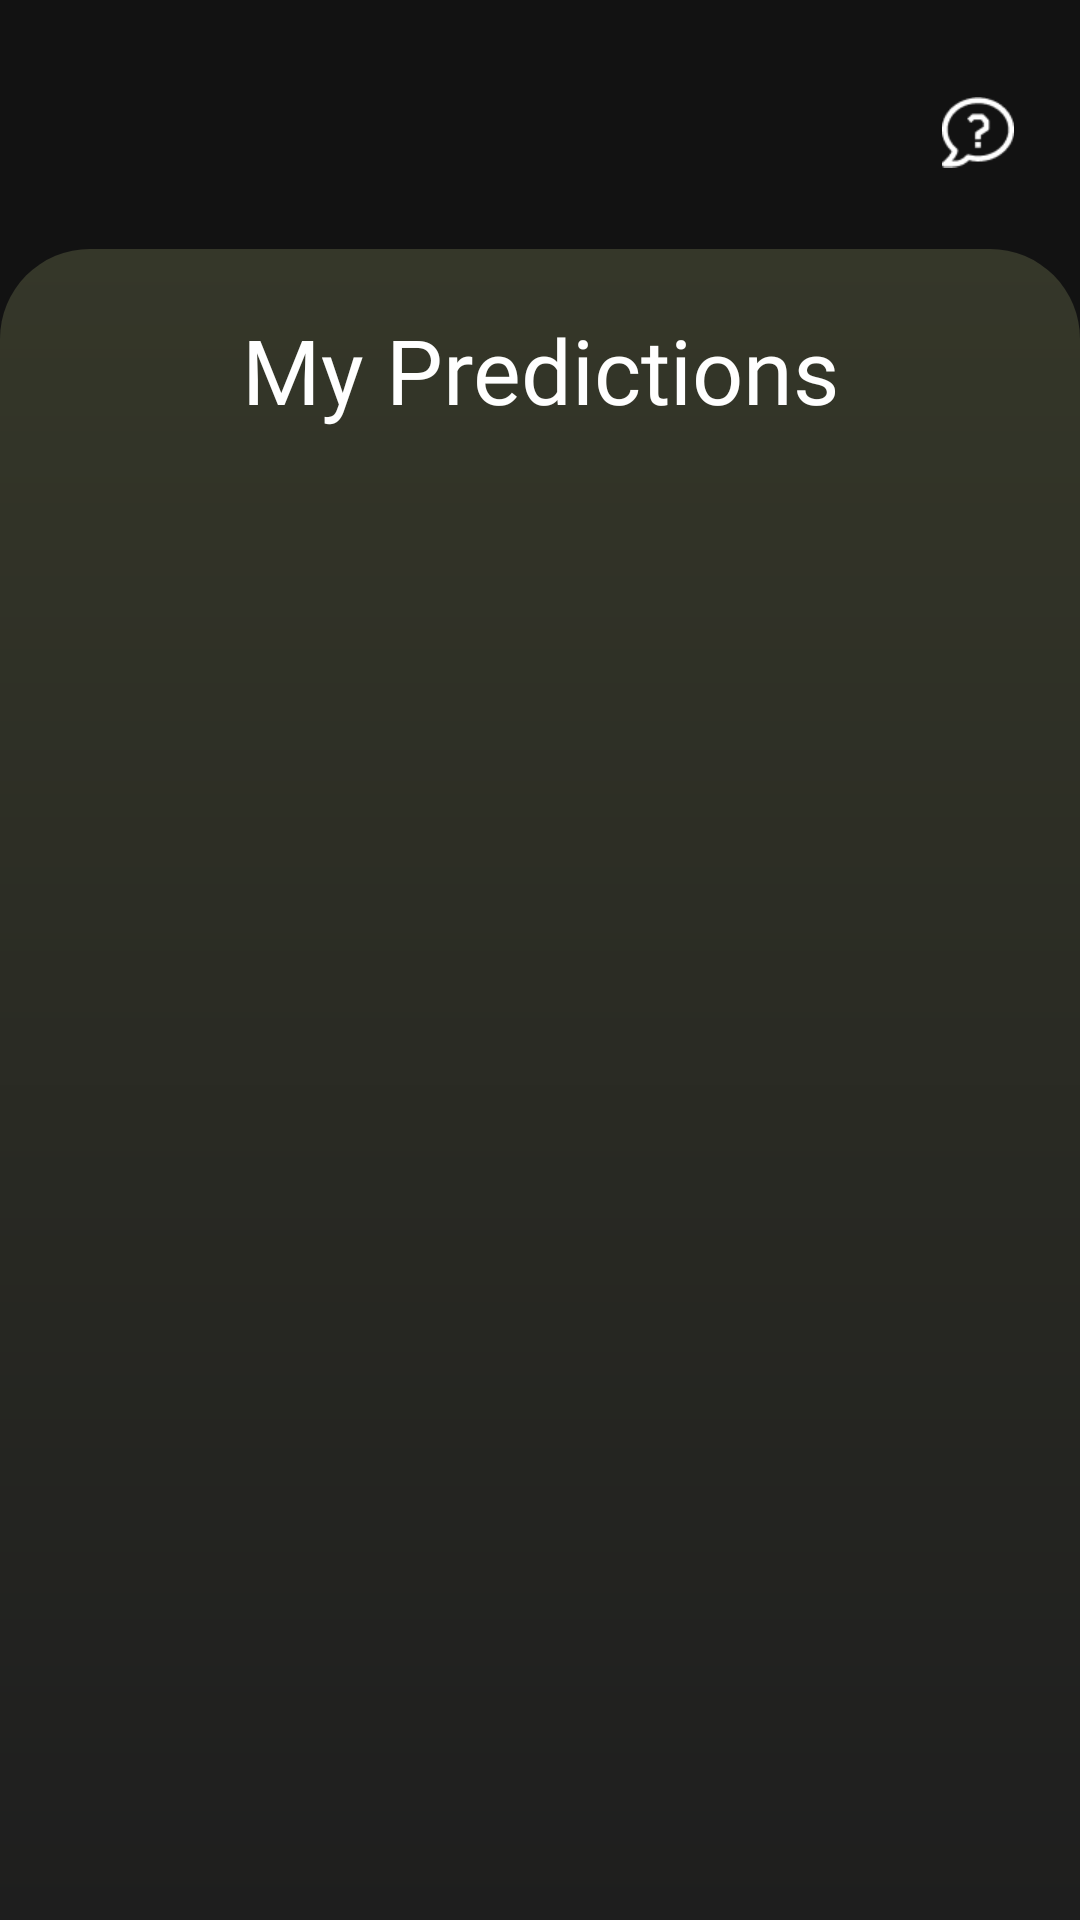

Icons on this 1080 x 1920 Android screen, each with the point to tap as (x=x, y=y):
tutorial: (x=978, y=132)
